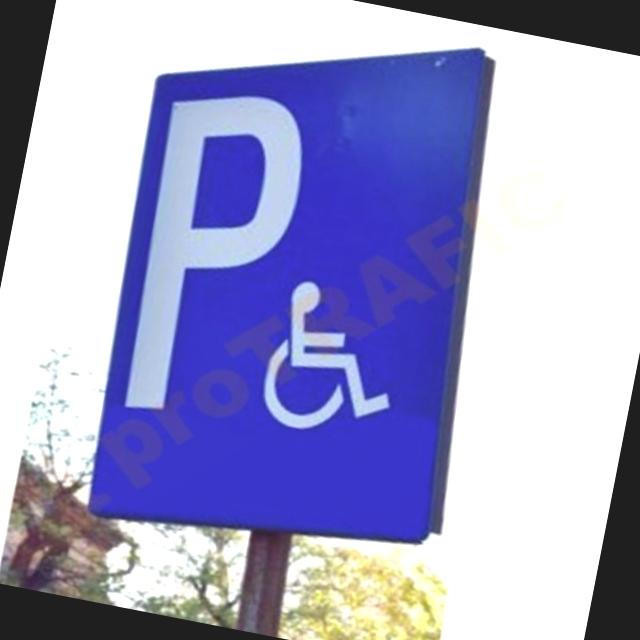symbol_of_access: (215, 250, 444, 480)
